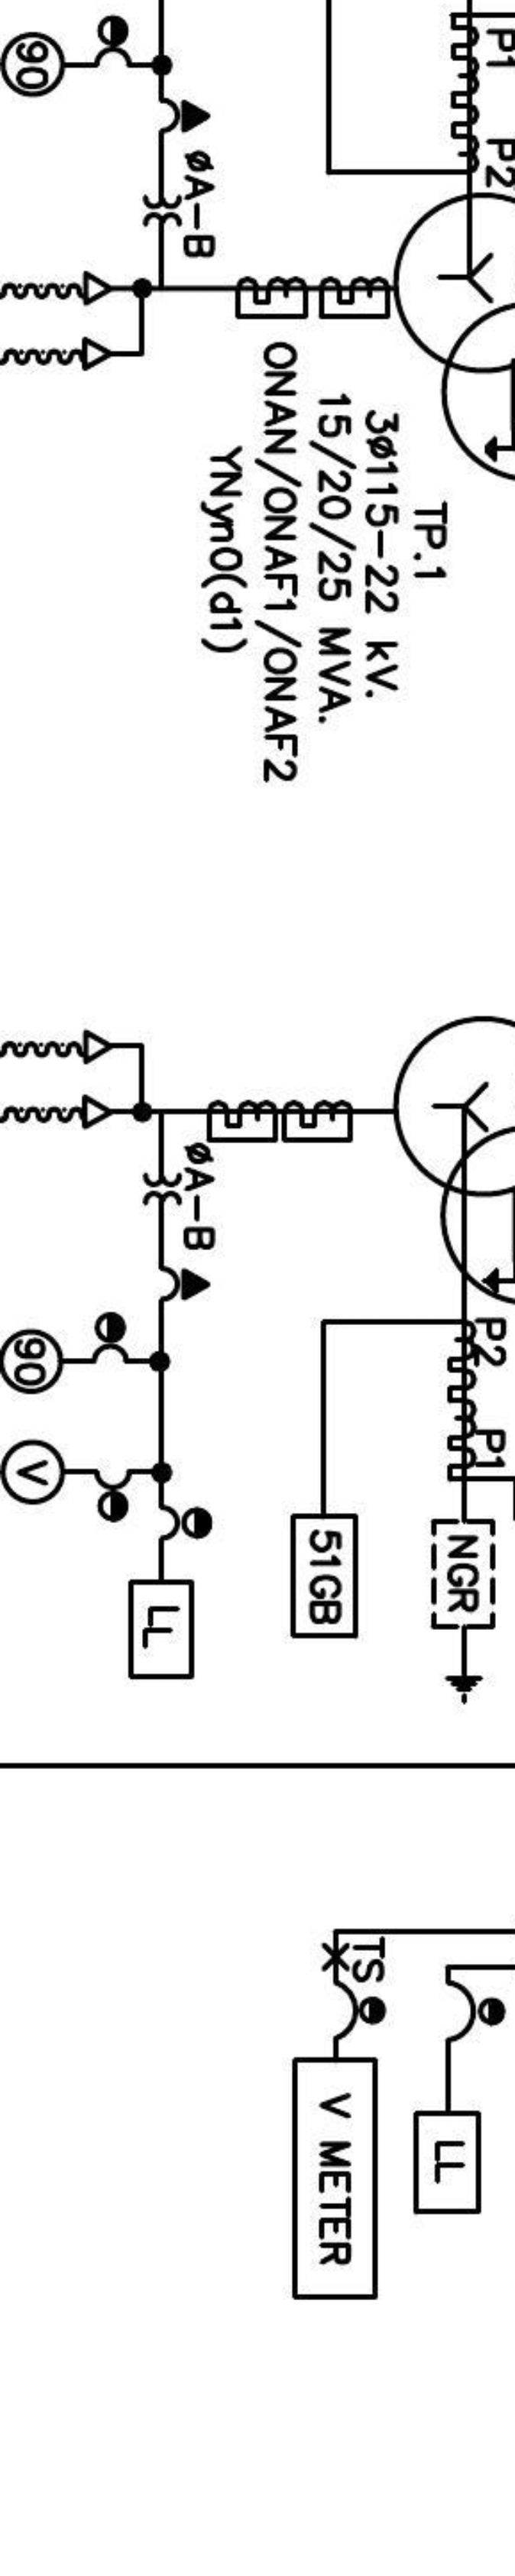LL: (411, 2110, 483, 2216), (128, 1577, 195, 1680)
NGR_future: (429, 1517, 496, 1706)
terminator_double: (81, 1028, 146, 1131), (82, 269, 146, 372)
v_m_digital: (290, 2055, 380, 2301)
